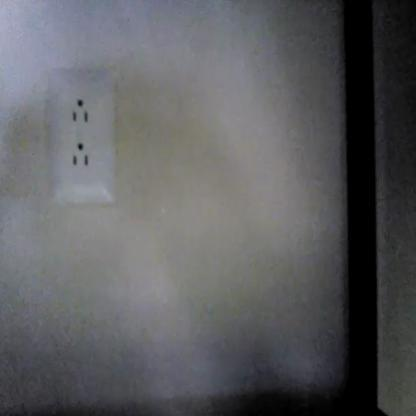OUTLET: (46, 68, 115, 204)
